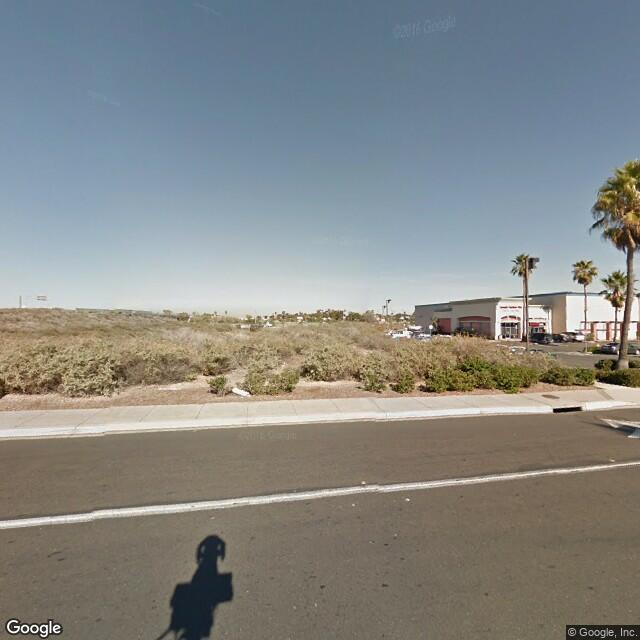litter: (228, 383, 255, 398)
